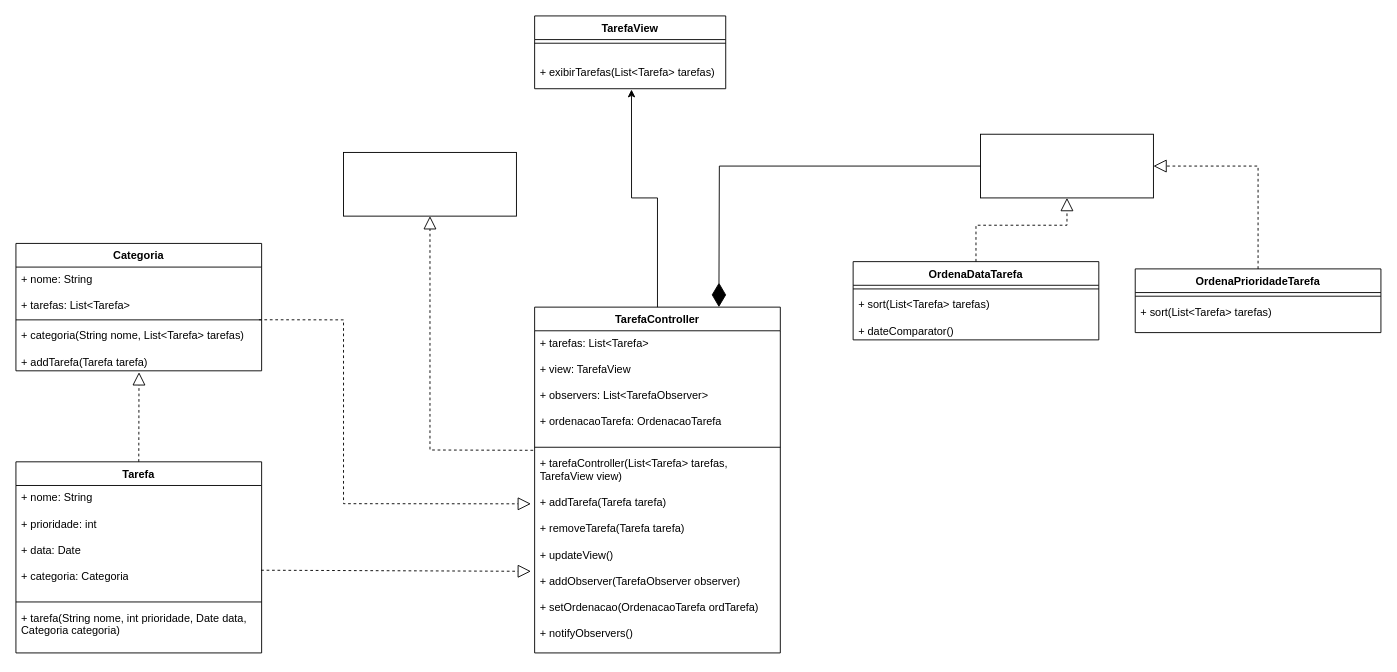
The diagram is 1397 pixels wide and 672 high, and some of its shapes have lost their labels. Here are the shapes that lost their labels. From the top down, the centre of each, then its label:
pixel 429 184: <<Interface>> TarefaObserver + update()
pixel 1066 165: <<Interface>> OrdenacaoTarefa + sort(List<Tarefa> tarefas)
